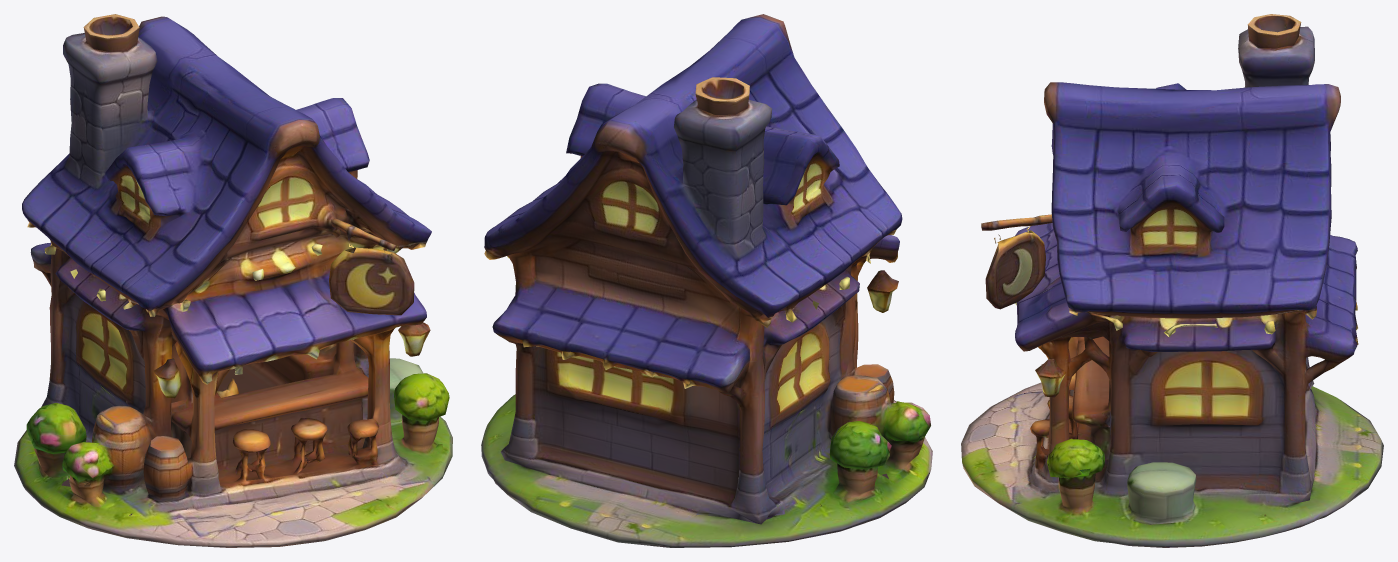
File: 13-moon-bar.glb
The picture shows the model from 3 angles, left to right: view 1: azimuth 30°, elevation 25°; view 2: azimuth 150°, elevation 25°; view 3: azimuth 270°, elevation 25°; orthographic projection. The views are drawn at different scales.
Parts seen in each view (by area): view 1: tripo_node_102a8294-e323-4647-aca4-fdaaf6032819; view 2: tripo_node_102a8294-e323-4647-aca4-fdaaf6032819; view 3: tripo_node_102a8294-e323-4647-aca4-fdaaf6032819.
Boxes of the visible parts, box(x1,y1,x2,y2) form: tripo_node_102a8294-e323-4647-aca4-fdaaf6032819: box(14, 14, 452, 547); tripo_node_102a8294-e323-4647-aca4-fdaaf6032819: box(481, 14, 932, 547); tripo_node_102a8294-e323-4647-aca4-fdaaf6032819: box(961, 14, 1383, 547).
Bounding box in the file's own units: 0.9649 × 0.9784 × 0.933.
1 material, 1 textured.
